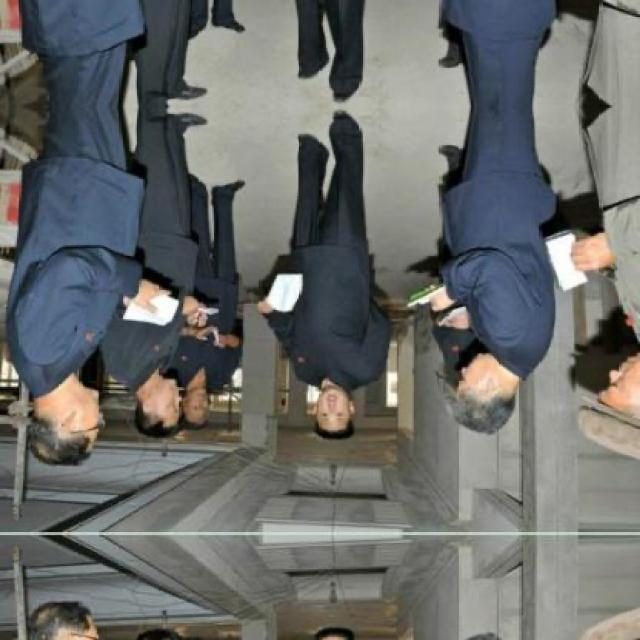sin casco: (447, 309, 530, 462), (18, 366, 105, 481), (593, 321, 640, 482), (294, 360, 362, 458), (120, 353, 190, 445), (182, 367, 230, 445)
